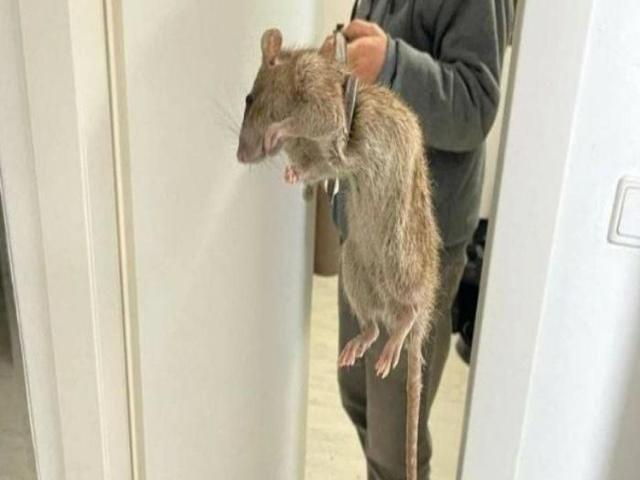Tikus: (232, 26, 442, 376)
